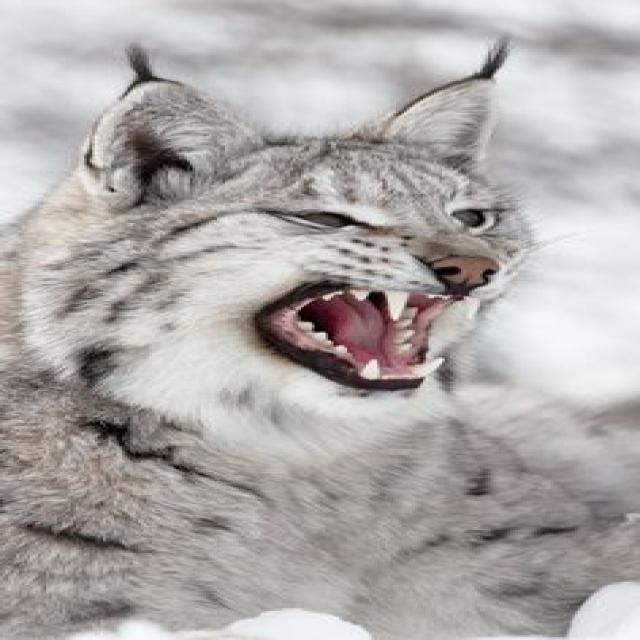Carnivorous: (0, 76, 640, 619)
